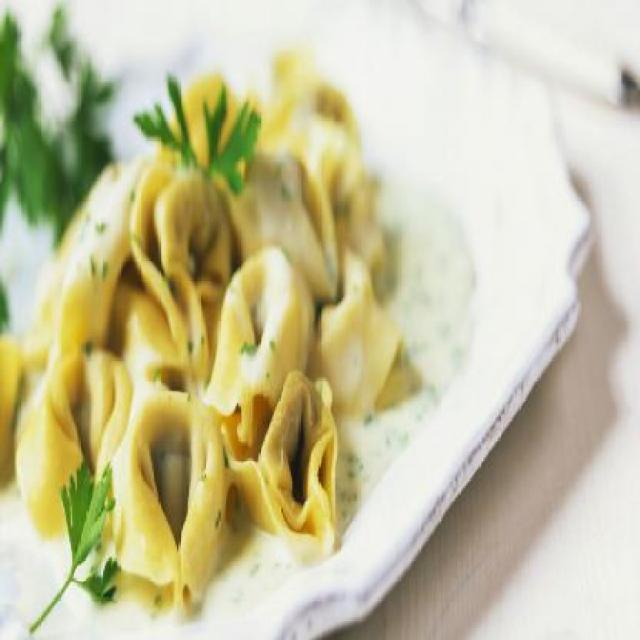Tortellini in broth: (34, 69, 408, 586)
